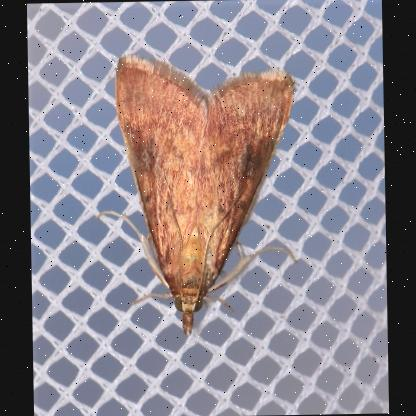Asian Corn Borer Moth: (88, 46, 304, 340)
